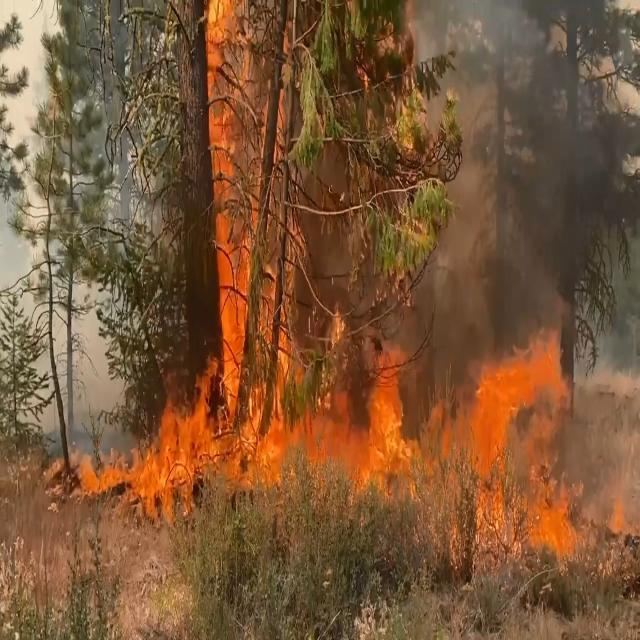Fire: (83, 0, 573, 556)
